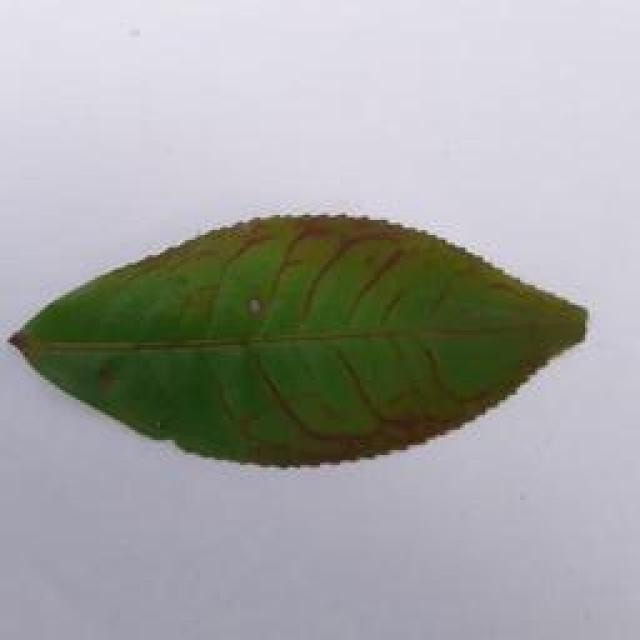Red Leaf Spot: (8, 193, 590, 455)
